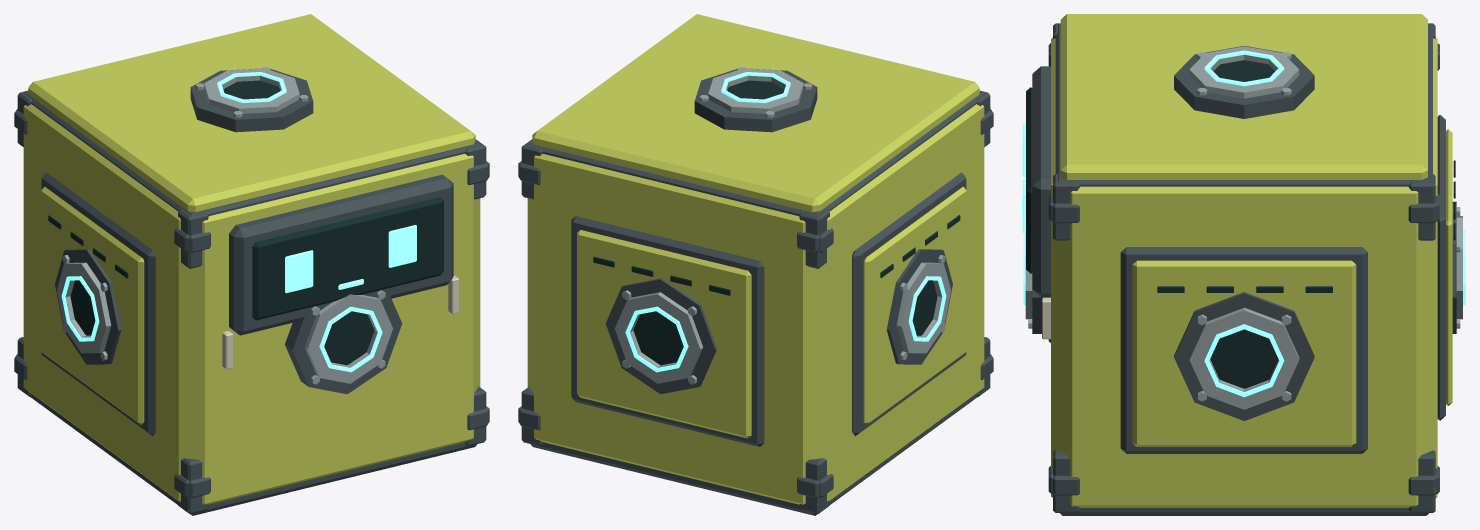
The model's file is core.glb.
3 views of the same model, side by side, from view 1: azimuth 30°, elevation 25°; view 2: azimuth 150°, elevation 25°; view 3: azimuth 270°, elevation 25° (orthographic). The views are drawn at different scales.
Visible parts, largest first — view 1: Core_Mesh; view 2: Core_Mesh; view 3: Core_Mesh.
Part boxes in pixels (x1,y1,x2,y2): Core_Mesh: (14, 14, 489, 515); Core_Mesh: (518, 14, 993, 515); Core_Mesh: (1022, 14, 1465, 515).
Size of the model in its own units: 1.14 by 1.14 by 1.15.
